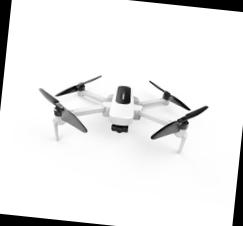drone: (26, 62, 210, 158)
